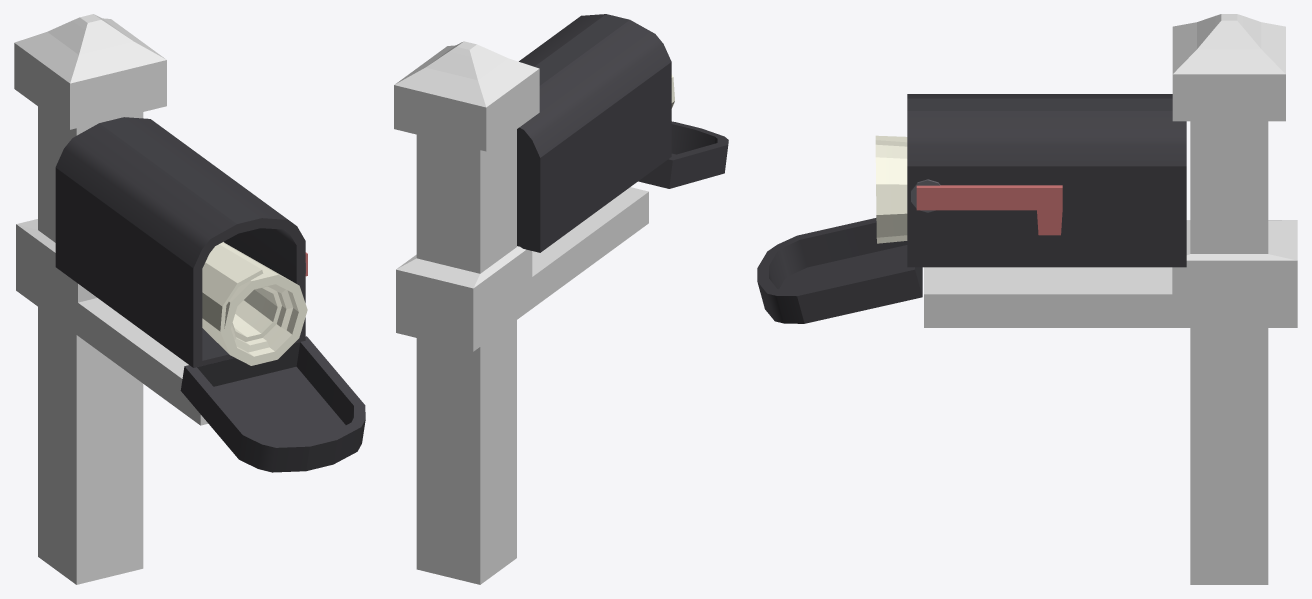
The model's file is Buzon_01.fbx.
3 views of the same model, side by side, from view 1: azimuth 30°, elevation 25°; view 2: azimuth 150°, elevation 25°; view 3: azimuth 270°, elevation 25° (orthographic). The views are drawn at different scales.
Parts seen in each view (by area): view 1: Soporte_Buzón, pCube2, pCube4, Períodico; view 2: Soporte_Buzón, pCube2, pCube4; view 3: Soporte_Buzón, pCube2, pCube4, pCube3, Períodico.
Part boxes in pixels (left/top/right/bottom): Soporte_Buzón: left=14, top=14, right=207, bottom=584; pCube2: left=55, top=117, right=305, bottom=367; pCube4: left=180, top=336, right=365, bottom=472; Períodico: left=202, top=242, right=307, bottom=365; Soporte_Buzón: left=394, top=41, right=648, bottom=584; pCube2: left=517, top=14, right=671, bottom=252; pCube4: left=638, top=121, right=728, bottom=188; Soporte_Buzón: left=924, top=14, right=1297, bottom=584; pCube2: left=907, top=94, right=1186, bottom=267; pCube4: left=757, top=218, right=922, bottom=323; pCube3: left=916, top=185, right=1062, bottom=235; Períodico: left=875, top=135, right=907, bottom=243.
Size of the model in its own units: 1.3 by 5.46 by 4.85.
